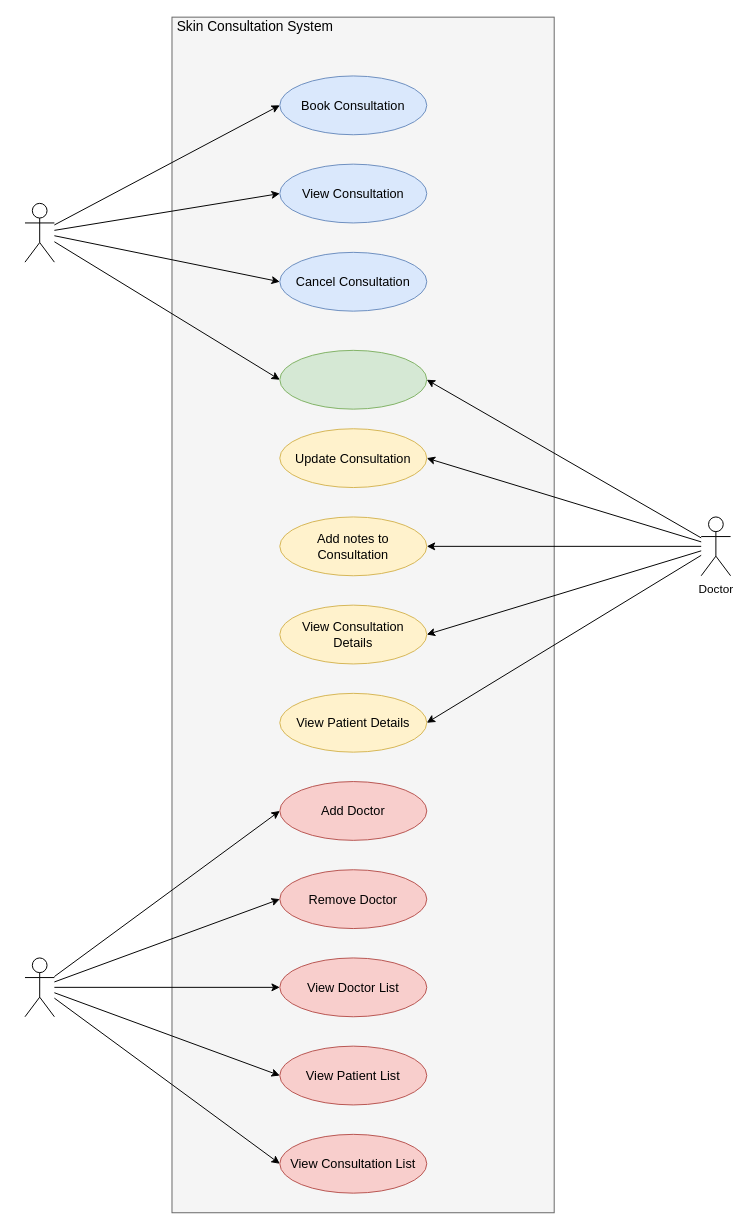
Some shapes in this 750 by 1230 pixel diagram are drawn without their labels. Each missing label, with the centre of its shape:
"Manager" belongs at (x=39, y=987).
"Patient" belongs at (x=39, y=232).
"Update Personal Details" belongs at (x=353, y=379).
